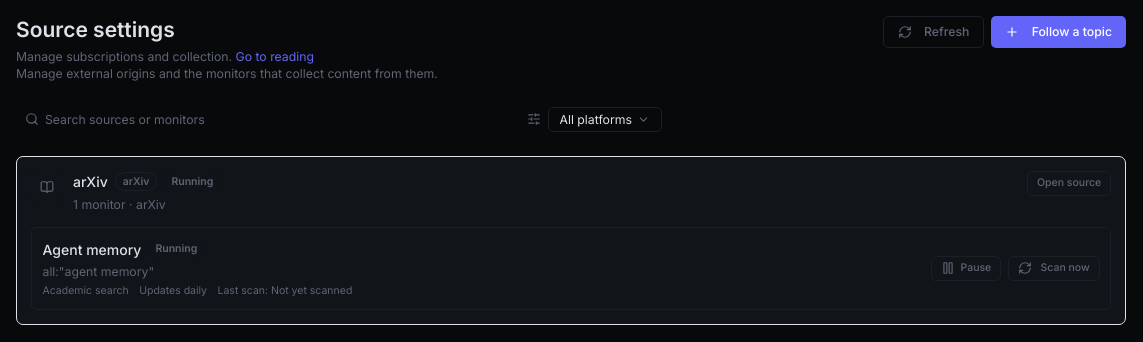
it: Sources page › clears loaded sources when refresh is denied after Space membership is revoked
This screenshot has width=1143, height=342.
Expected: the text "Agent memory" is shown, [42,238,141,260]
Click the button "Refresh" at (934, 32), box [883,16,984,48]
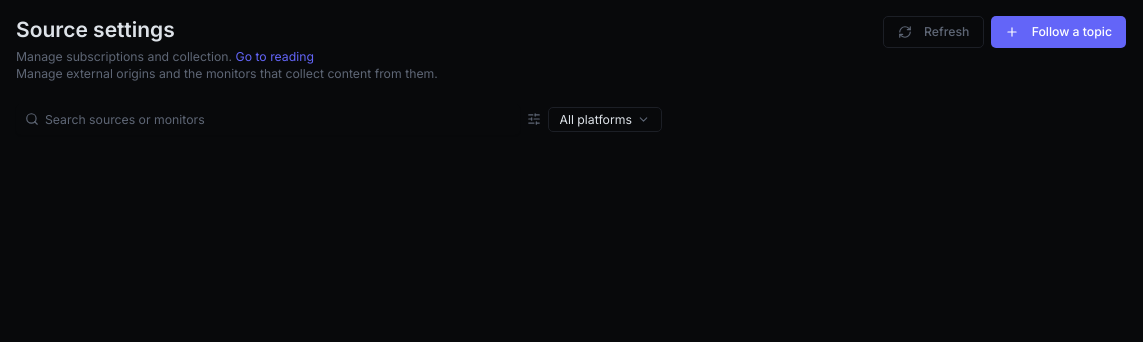
Result: the text "Agent memory" is gone
